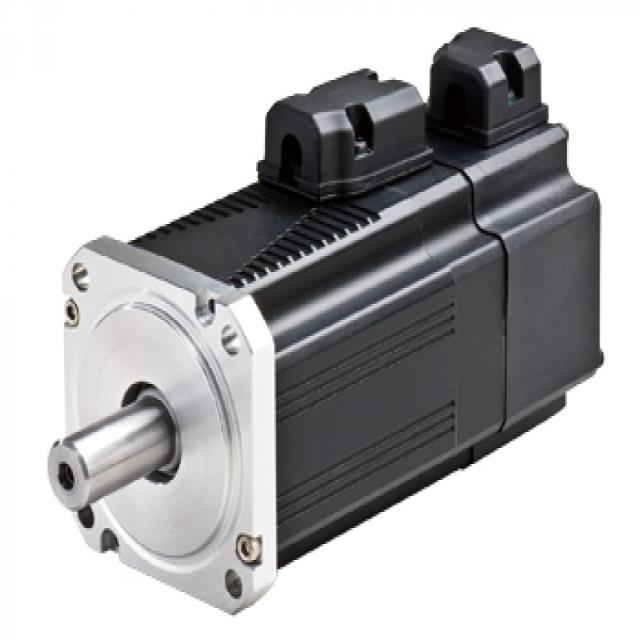servomotor: (33, 50, 640, 606)
